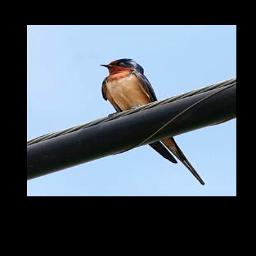Swallow: (99, 57, 205, 185)
